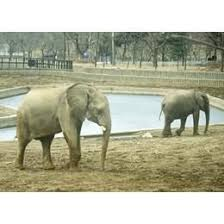Elephant: (13, 82, 114, 173)
